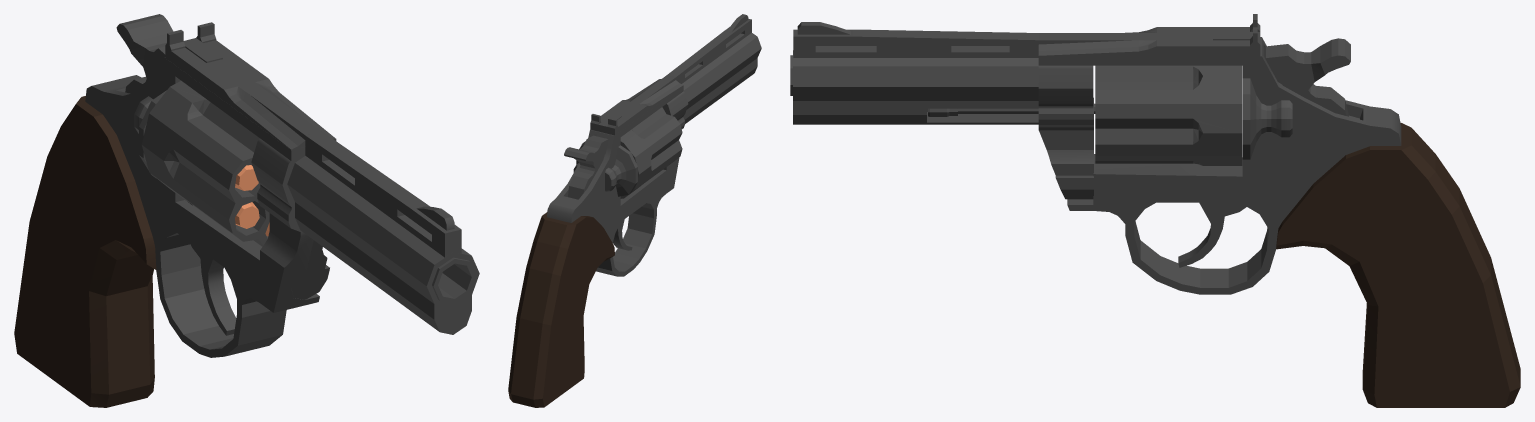
File: lowpolygun.glb
3 views of the same model, side by side, from view 1: azimuth 30°, elevation 25°; view 2: azimuth 150°, elevation 25°; view 3: azimuth 270°, elevation 25° (orthographic). The views are drawn at different scales.
Parts seen in each view (by area): view 1: Grip, Frame, Magnum_Barrel, Revolving_Cylinder, Rear_Sights, Front_Sights, Hammer, Trigger, Cylinder_Arm, Back_Plate_Left, Bullet3, Bullet2; view 2: Grip, Frame, Magnum_Barrel, Revolving_Cylinder, Rear_Sights, Front_Sights, Hammer, Back_Plate_Left, Trigger; view 3: Grip, Frame, Magnum_Barrel, Revolving_Cylinder, Front_Sights, Rear_Sights, Cylinder_Arm, Hammer, Back_Plate_Right, Trigger, Extractor_Rod.
Boxes of the visible parts, <box> form: Grip: <box>14,96,156,407</box>; Frame: <box>85,57,336,357</box>; Magnum_Barrel: <box>287,156,479,334</box>; Revolving_Cylinder: <box>141,80,269,246</box>; Rear_Sights: <box>165,22,335,149</box>; Front_Sights: <box>305,131,461,257</box>; Hammer: <box>116,14,173,93</box>; Trigger: <box>190,242,236,335</box>; Cylinder_Arm: <box>291,240,329,299</box>; Back_Plate_Left: <box>134,90,166,177</box>; Bullet3: <box>235,202,259,228</box>; Bullet2: <box>235,165,258,190</box>; Grip: <box>508,212,614,407</box>; Frame: <box>547,85,688,276</box>; Magnum_Barrel: <box>682,33,761,123</box>; Revolving_Cylinder: <box>620,107,682,198</box>; Rear_Sights: <box>590,75,683,135</box>; Front_Sights: <box>667,14,751,83</box>; Hammer: <box>564,135,608,199</box>; Back_Plate_Left: <box>605,145,637,196</box>; Trigger: <box>613,219,632,250</box>; Grip: <box>1276,123,1520,407</box>; Frame: <box>1038,37,1401,294</box>; Magnum_Barrel: <box>790,50,1038,124</box>; Revolving_Cylinder: <box>1095,65,1242,165</box>; Front_Sights: <box>793,22,1038,57</box>; Rear_Sights: <box>1038,14,1260,56</box>; Cylinder_Arm: <box>1038,97,1093,199</box>; Hammer: <box>1263,38,1350,116</box>; Back_Plate_Right: <box>1242,78,1292,159</box>; Trigger: <box>1178,202,1246,267</box>; Extractor_Rod: <box>928,103,1095,116</box>.
Size of the model in its own units: 0.1827 by 0.6514 by 1.16.
2 materials, 2 textured.
